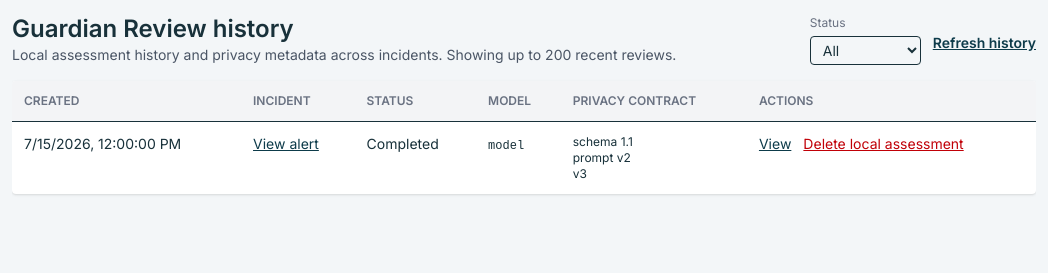
Test case: Guardian Review global history › cannot restore deleted content from an already pending detail response
Click the button "View": (775,144) [759, 134, 791, 154]
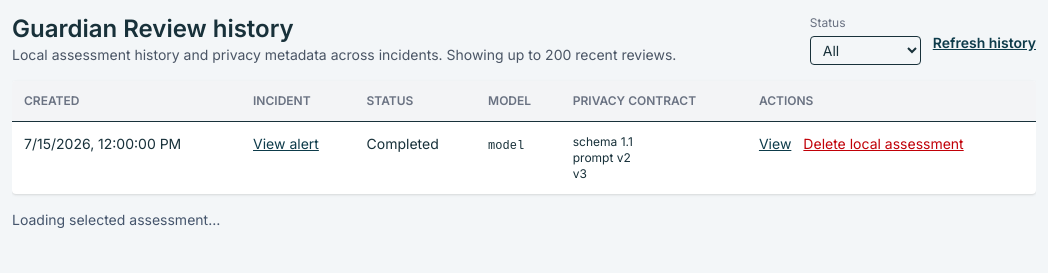
Click the button "Delete local assessment": (884,144) [803, 134, 964, 154]
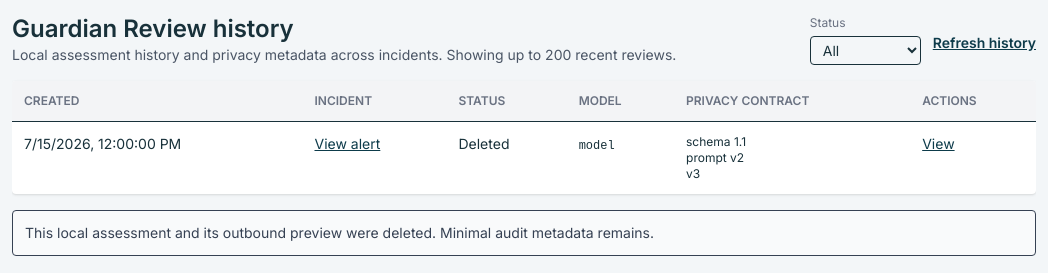
Now the text "assessment and its outbound preview were deleted" is shown, box [25, 224, 654, 241]
Now the button "Delete local assessment" is gone
